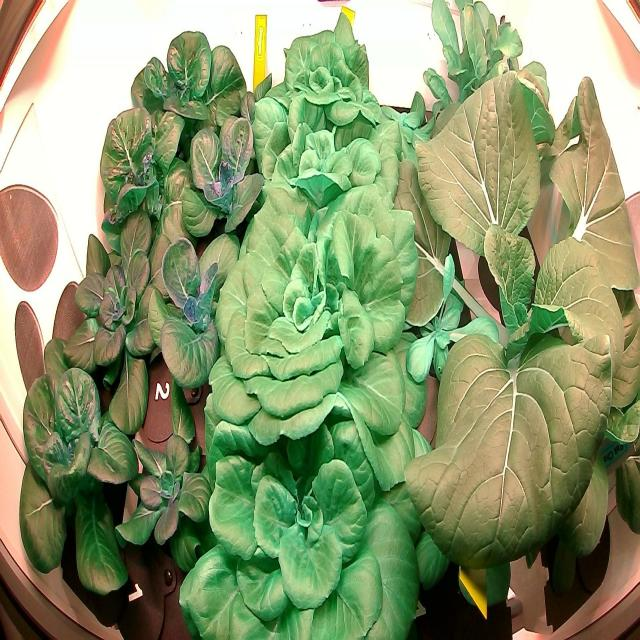Ready: (198, 166, 434, 484), (171, 367, 443, 639), (242, 66, 410, 251), (256, 6, 398, 149)
young: (9, 316, 156, 620), (44, 193, 192, 453), (100, 367, 246, 601), (88, 92, 223, 284), (120, 16, 249, 176), (170, 84, 278, 261), (144, 219, 253, 394)
